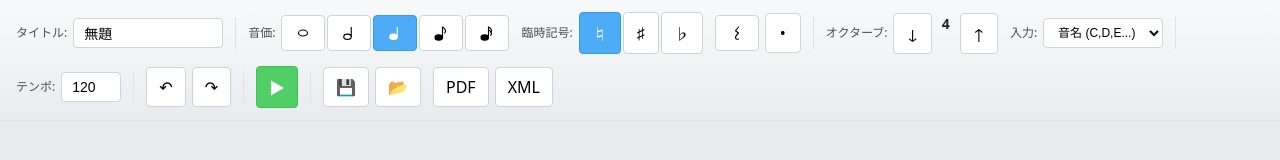
Toolbar › オクターブ制御 › オクターブが1の時は下げるボタンが無効になる
The image size is (1280, 160).
Click the button titled "オクターブ下げる (↓)" at (913, 33), box [894,12,932,54]
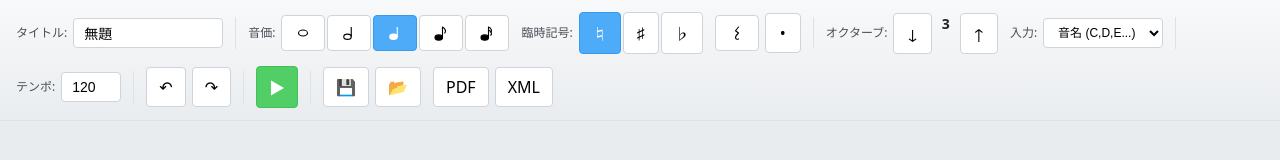
Click the button titled "オクターブ下げる (↓)" at (913, 33), box [894,12,932,54]
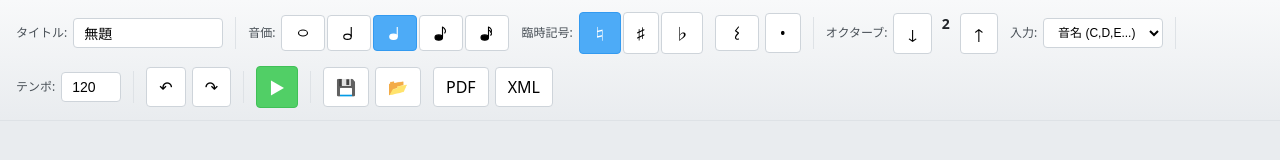
Click the button titled "オクターブ下げる (↓)" at (913, 33), box [894,12,932,54]
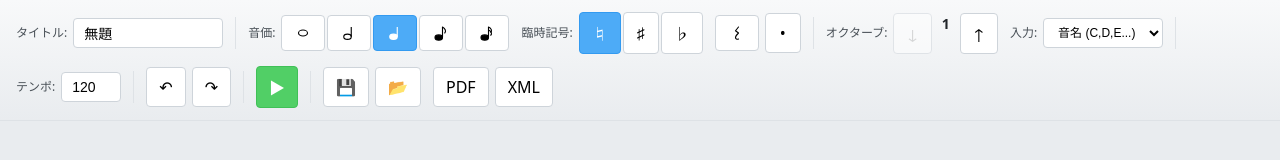
Now the button titled "オクターブ下げる (↓)" is disabled, box [894,12,932,54]
